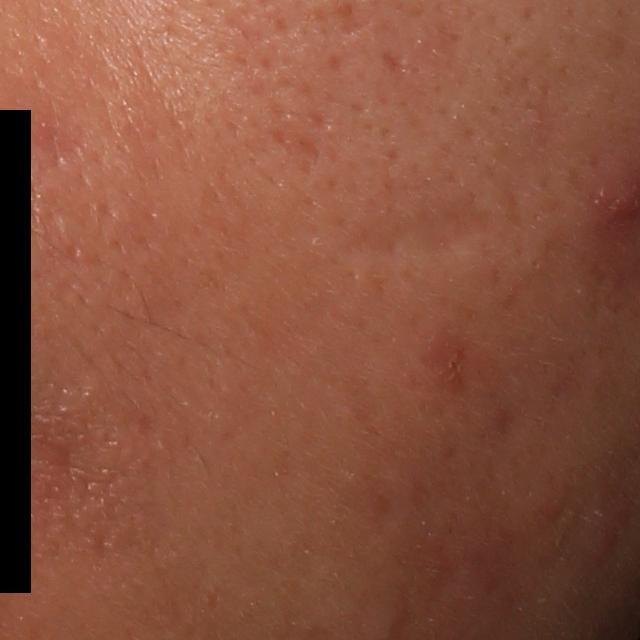atrophic_scar: (338, 2, 380, 38), (372, 47, 412, 73)
other: (326, 202, 515, 273)
